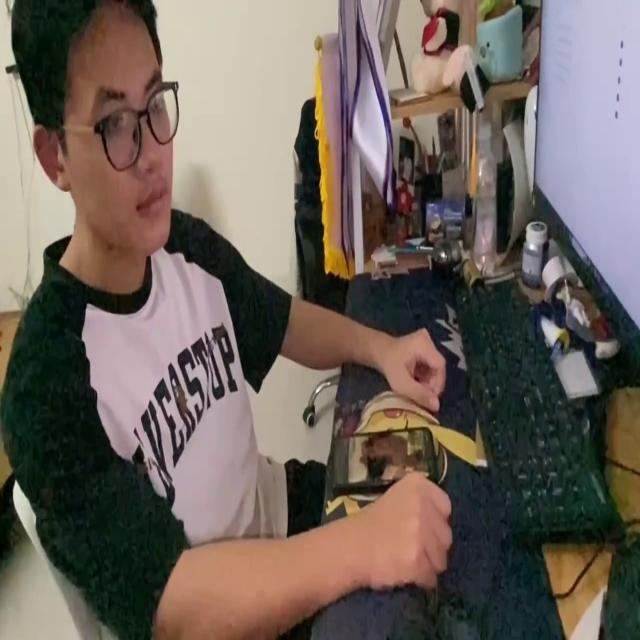laptop: (531, 0, 640, 365)
phone: (329, 426, 440, 494)
student: (3, 0, 453, 640)
